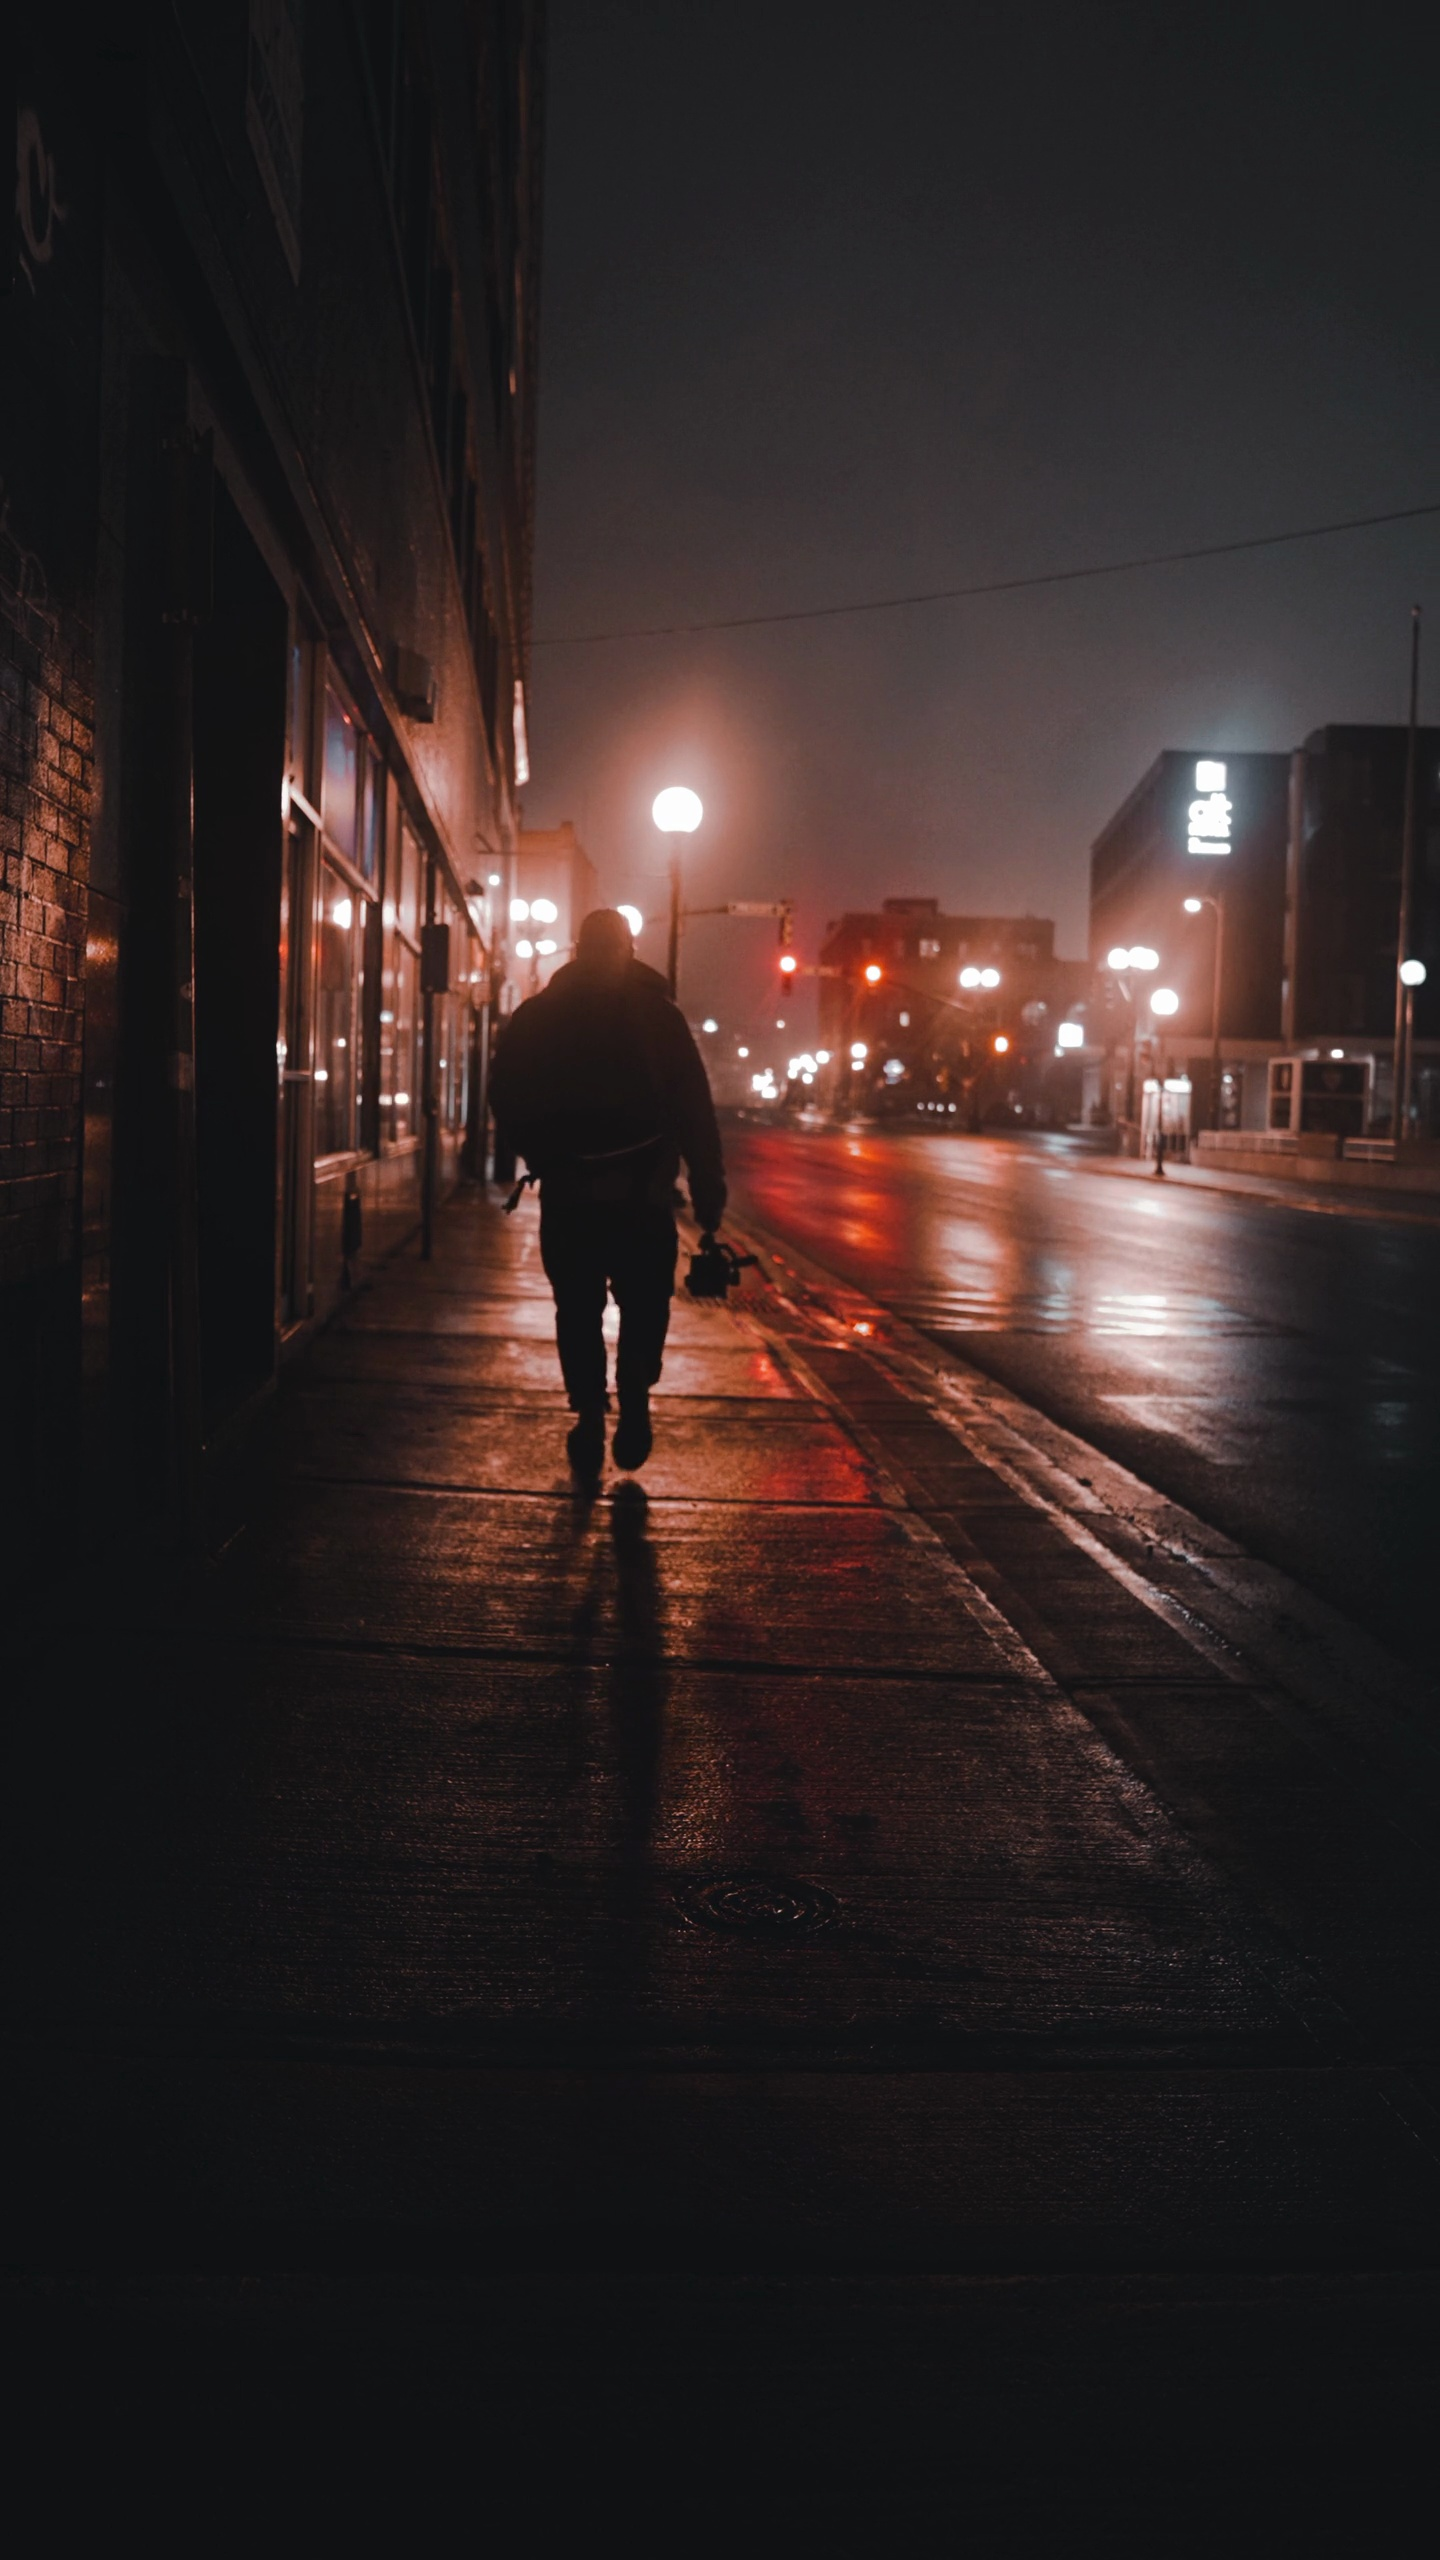person: (469, 904, 736, 1476)
